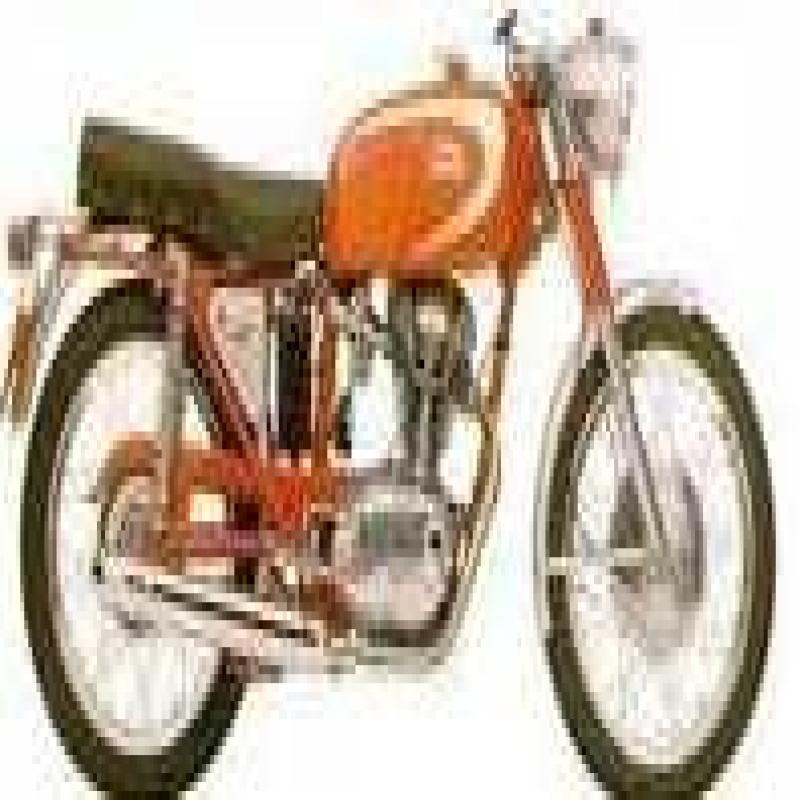bike: (2, 14, 800, 795)
